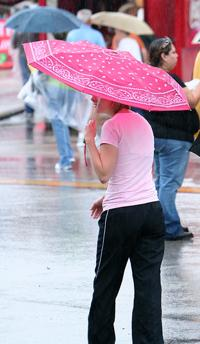person: (85, 93, 166, 344)
